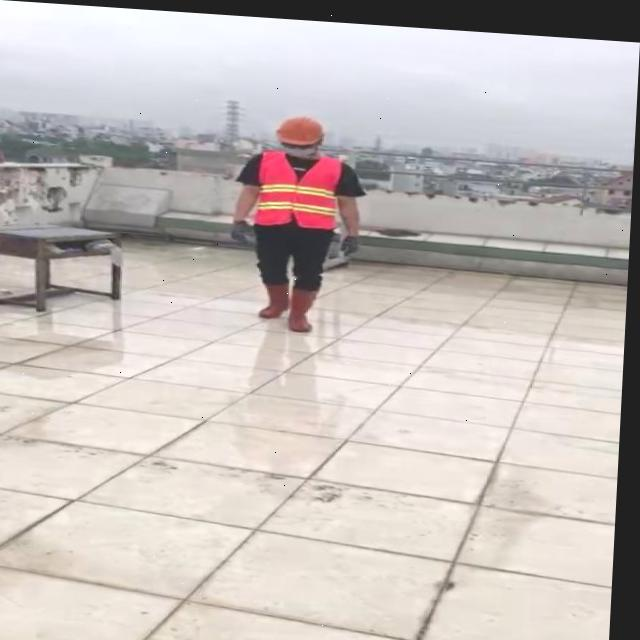Gloves: (343, 230, 363, 252), (233, 216, 251, 239)
Safety-Boot: (292, 282, 320, 327), (263, 275, 294, 314)
Safety-Vest: (258, 145, 347, 226)
